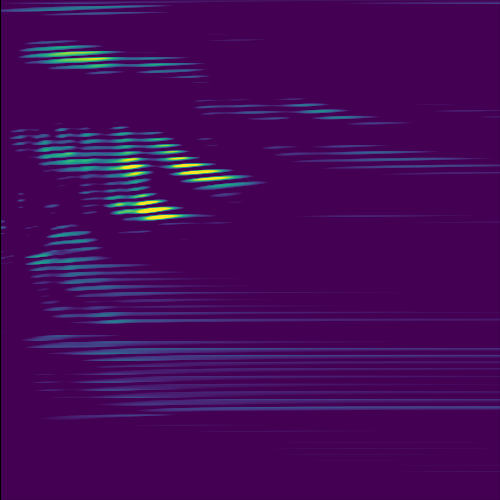semblance: (128, 191, 184, 227), (51, 43, 121, 69), (115, 152, 152, 183)
